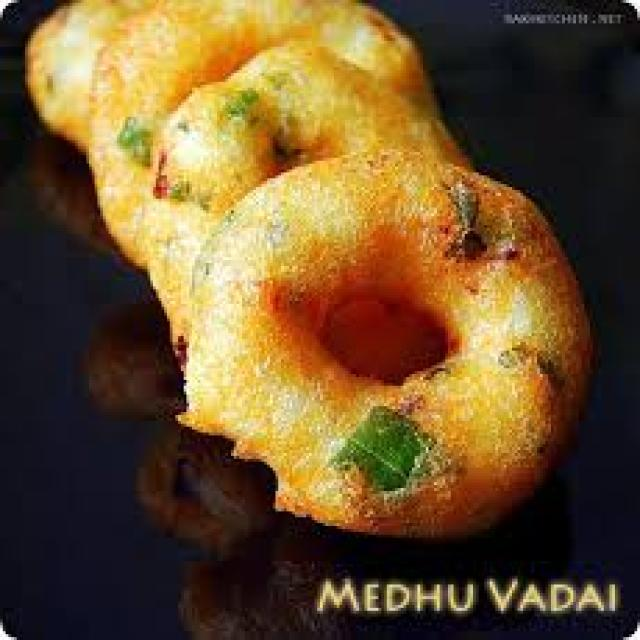MEDU VADA: (181, 152, 587, 532), (147, 41, 456, 342), (53, 0, 417, 137)
